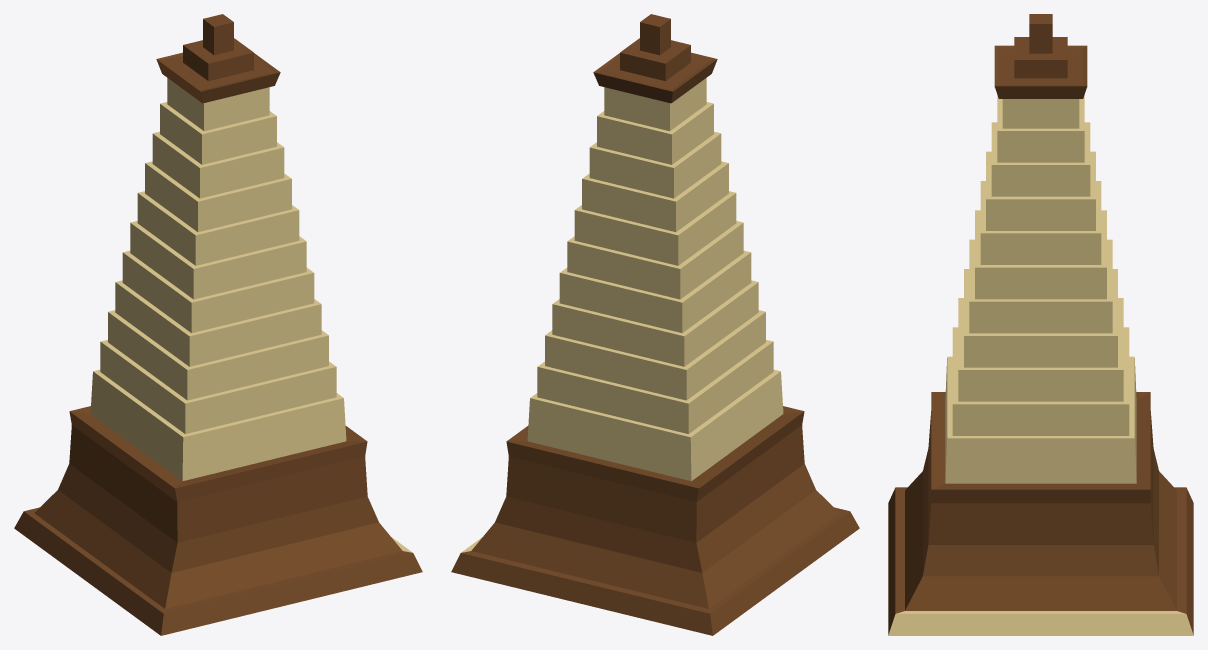
3 renders of one model, left to right at view 1: azimuth 30°, elevation 25°; view 2: azimuth 150°, elevation 25°; view 3: azimuth 270°, elevation 25°, orthographic. The views are drawn at different scales.
Visible parts, largest first — view 1: Large Pyramid.003; view 2: Large Pyramid.003; view 3: Large Pyramid.003.
Part boxes in pixels (x1,y1,x2,y2): Large Pyramid.003: (14, 14, 422, 635); Large Pyramid.003: (451, 14, 859, 635); Large Pyramid.003: (888, 14, 1193, 635).
Bounding box in the file's own units: 2 × 3.87 × 1.95.
